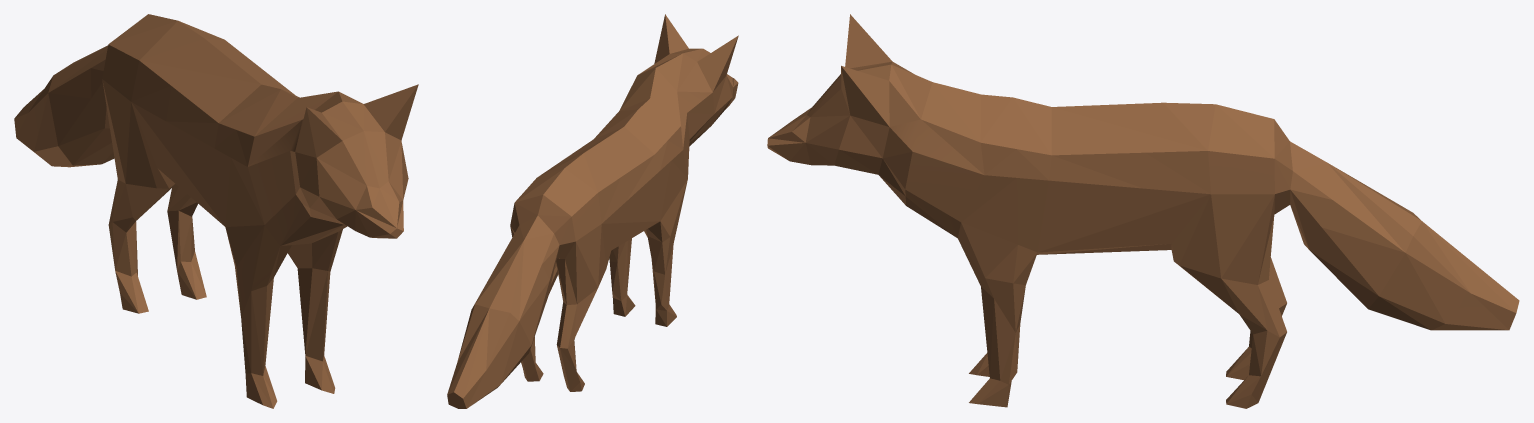
The model's file is fox_5.obj.
3 views of the same model, side by side, from view 1: azimuth 30°, elevation 25°; view 2: azimuth 150°, elevation 25°; view 3: azimuth 270°, elevation 25° (orthographic). The views are drawn at different scales.
Visible parts, largest first — view 1: fox1; view 2: fox1; view 3: fox1.
Boxes of the visible parts, bbox=[...] form: fox1: bbox=[14, 14, 418, 408]; fox1: bbox=[447, 14, 738, 408]; fox1: bbox=[767, 14, 1519, 408].
Bounding box in the file's own units: 0.6693 × 1.94 × 3.79.
